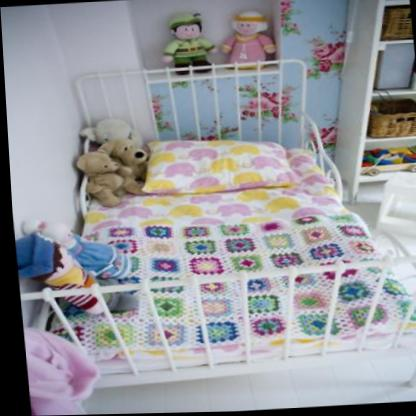Bed: (4, 53, 416, 412)
